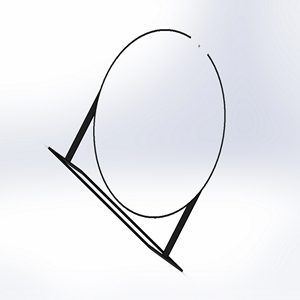circle: (48, 26, 228, 274)
